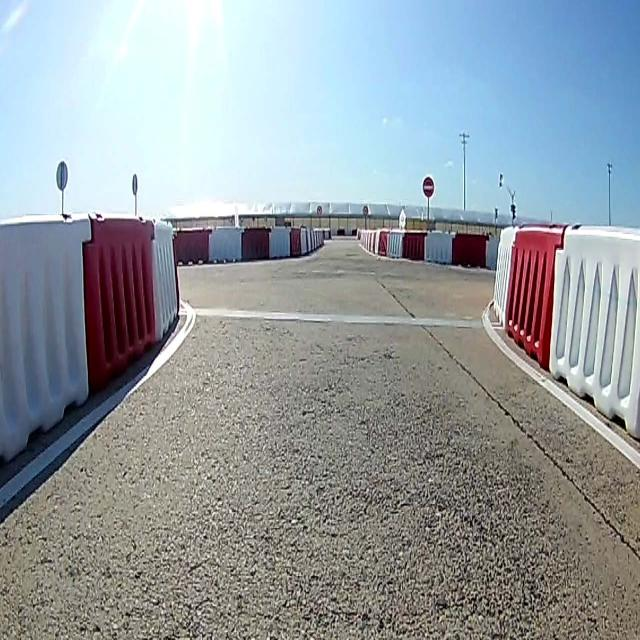girisyok: (423, 175, 436, 198)
